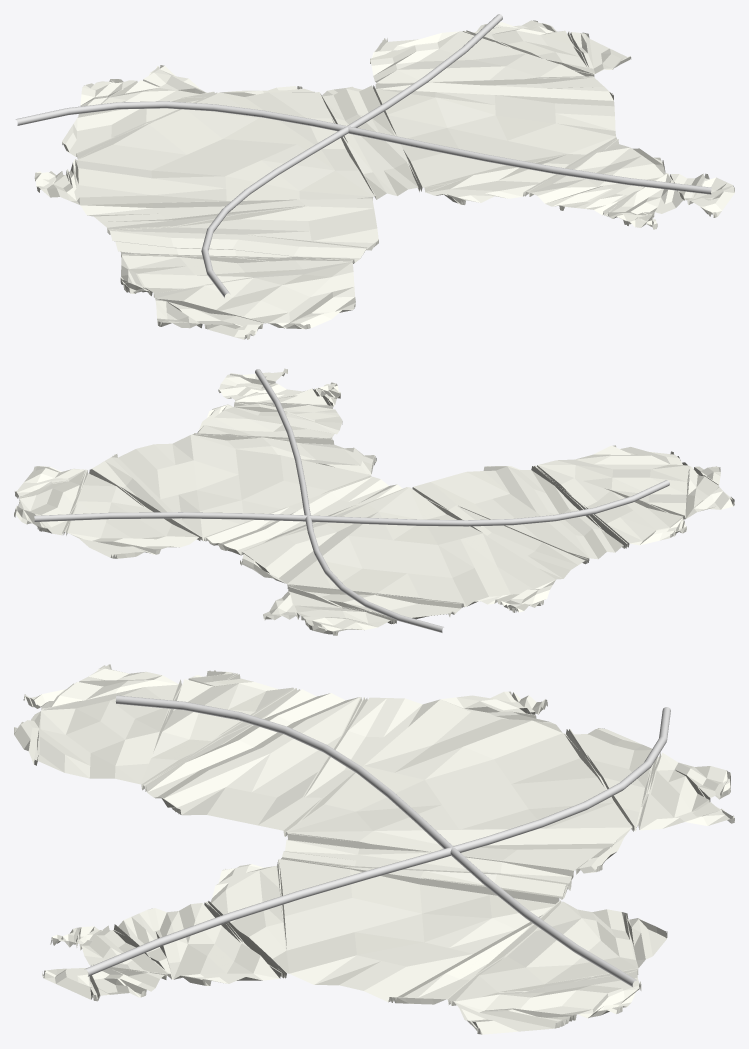
File: Punjab3-transformed.glb
3 renders of one model, top to bottom at view 1: azimuth 30°, elevation 25°; view 2: azimuth 150°, elevation 25°; view 3: azimuth 270°, elevation 25°, orthographic. The views are drawn at different scales.
Visible parts, largest first — view 1: Map_rivers.001, River2, River1; view 2: Map_rivers.001, River1, River2; view 3: Map_rivers.001, River2, River1.
Boxes of the visible parts, box(x1,y1,x2,y2) form: Map_rivers.001: box(34, 20, 734, 339); River2: box(15, 101, 711, 194); River1: box(201, 14, 502, 297); Map_rivers.001: box(14, 368, 734, 635); River1: box(34, 480, 669, 526); River2: box(255, 369, 443, 632); Map_rivers.001: box(14, 664, 734, 1034); River2: box(84, 707, 670, 976); River1: box(115, 695, 636, 987).
Bounding box in the file's own units: 1.15 × 0.0233 × 0.9623.
1 material, 1 textured.
